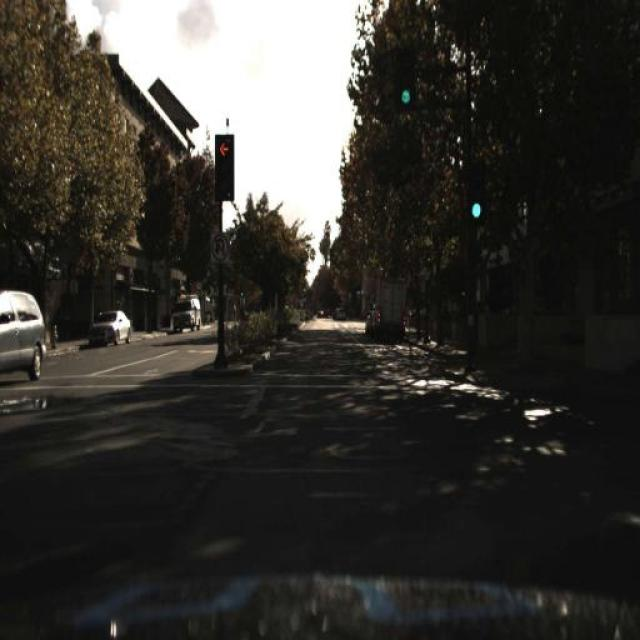semaforo: (465, 159, 488, 226), (214, 133, 236, 201), (393, 49, 416, 110)
